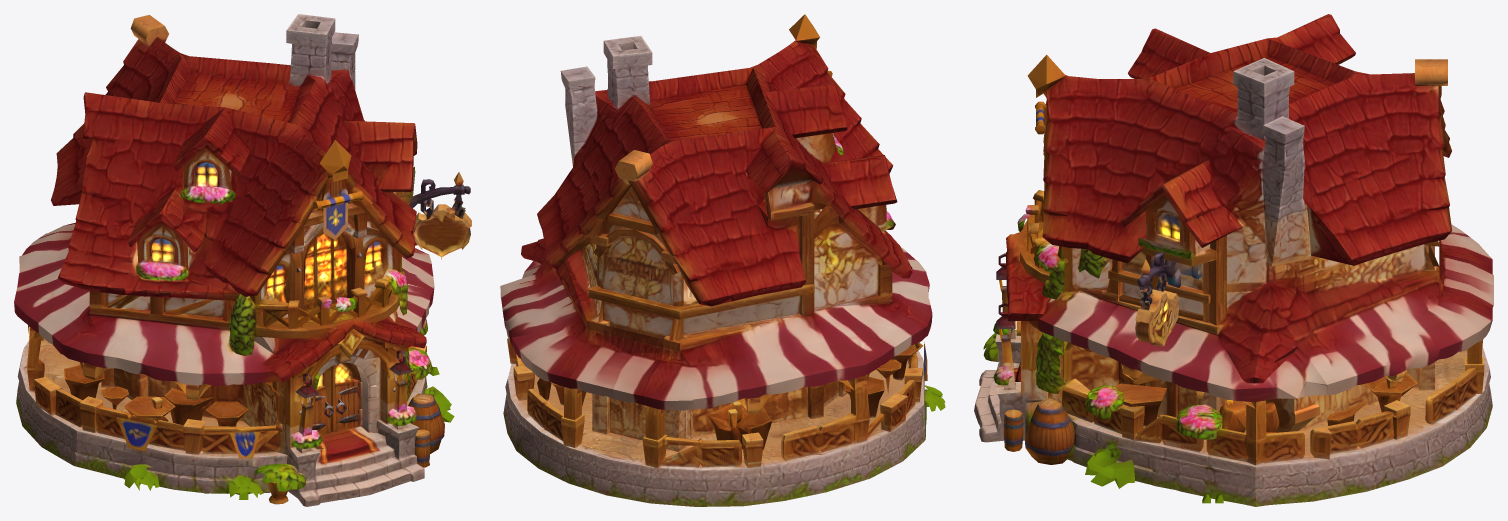
Rendered from tavern-red-awning.glb.
The picture shows the model from 3 angles, left to right: view 1: azimuth 30°, elevation 25°; view 2: azimuth 150°, elevation 25°; view 3: azimuth 270°, elevation 25°; orthographic projection. The views are drawn at different scales.
Visible parts, largest first — view 1: tavern-red-awning; view 2: tavern-red-awning; view 3: tavern-red-awning.
Boxes of the visible parts, x1,y1,x2,y2 form: tavern-red-awning: (14,14,471,506); tavern-red-awning: (500,14,945,506); tavern-red-awning: (974,14,1493,506).
Bounding box in the file's own units: 19.39 × 17 × 21.03.
1 material, 1 textured.
